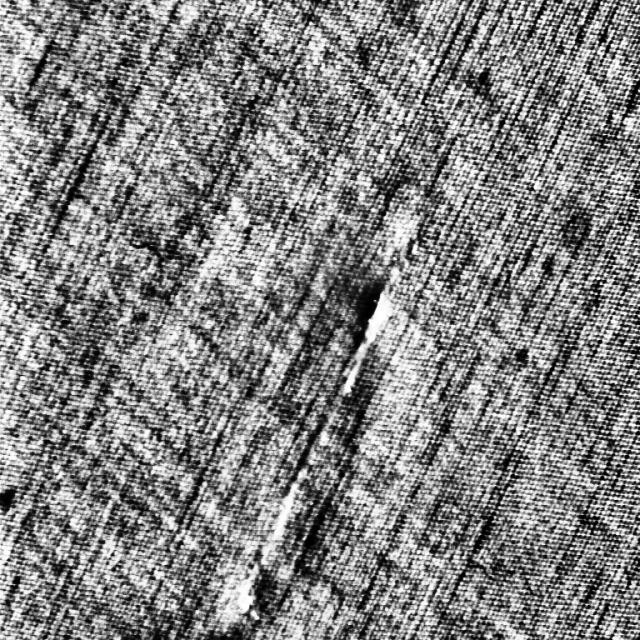Stitch: (325, 234, 417, 411), (229, 552, 281, 628)
